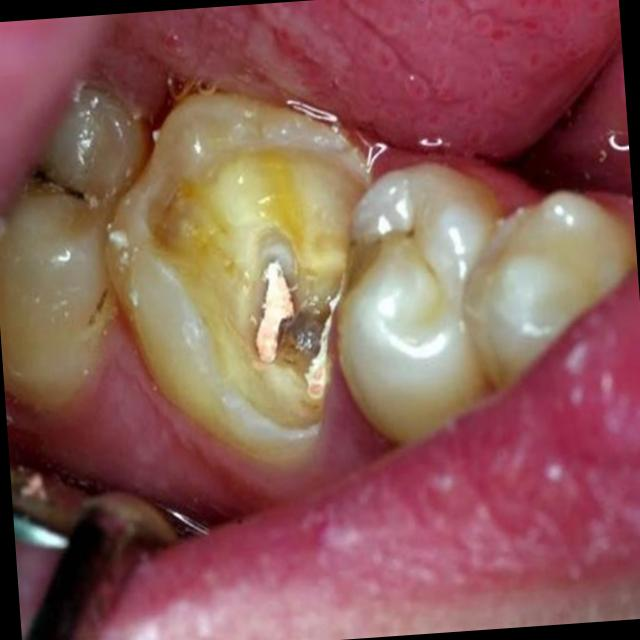Caries: (32, 167, 84, 197), (88, 288, 107, 324)
Cavity: (153, 146, 368, 429)
Tooth: (105, 95, 373, 466), (337, 164, 502, 438), (0, 89, 146, 398), (462, 197, 635, 392)
